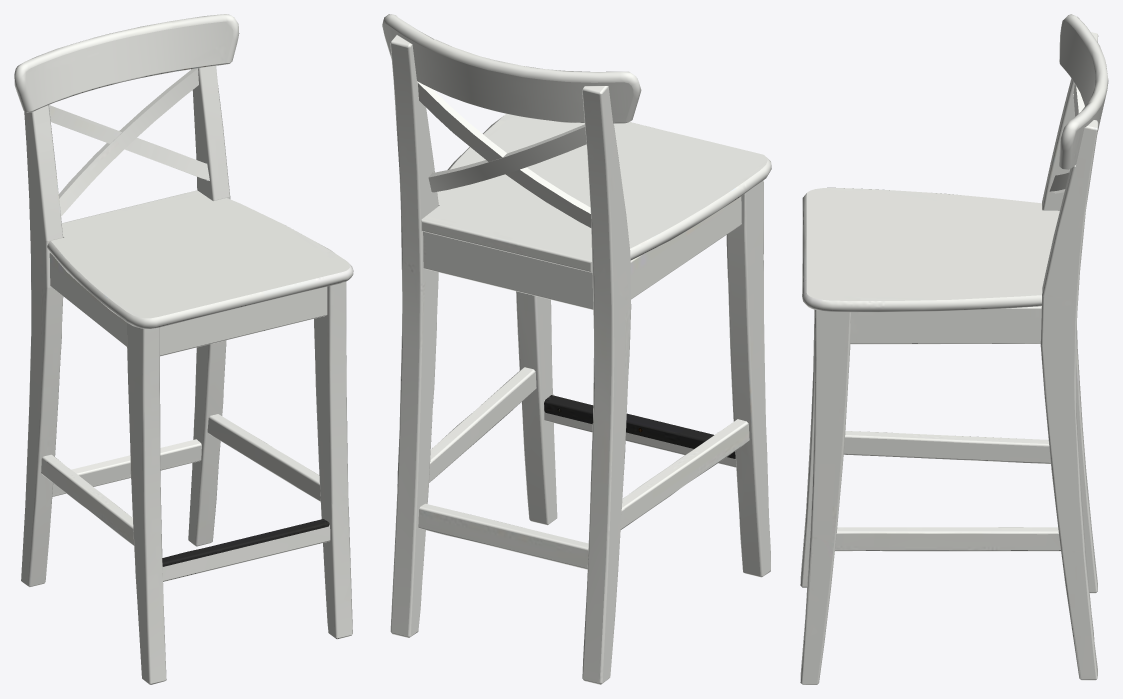
Rendered from 04 - ROSENTORP Bar stool with backrest - counter heightwhite 63 cm.glb.
3 renders of one model, left to right at view 1: azimuth 30°, elevation 25°; view 2: azimuth 150°, elevation 25°; view 3: azimuth 270°, elevation 25°, orthographic. The views are drawn at different scales.
Visible parts, largest first — view 1: ASY_ART_50618194_S01_NV01; view 2: ASY_ART_50618194_S01_NV01; view 3: ASY_ART_50618194_S01_NV01.
Boxes of the visible parts, <box> form: ASY_ART_50618194_S01_NV01: <box>14,14,353,684</box>; ASY_ART_50618194_S01_NV01: <box>382,14,771,684</box>; ASY_ART_50618194_S01_NV01: <box>800,14,1108,684</box>.
Size of the model in its own units: 0.4051 by 0.9168 by 0.4529.
Materials: 1 (1 with a texture image).
